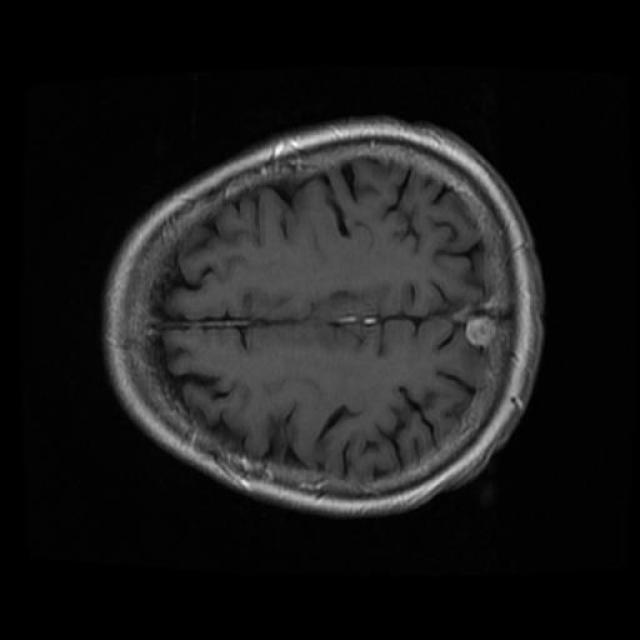Meningioma: (466, 316, 495, 347)
